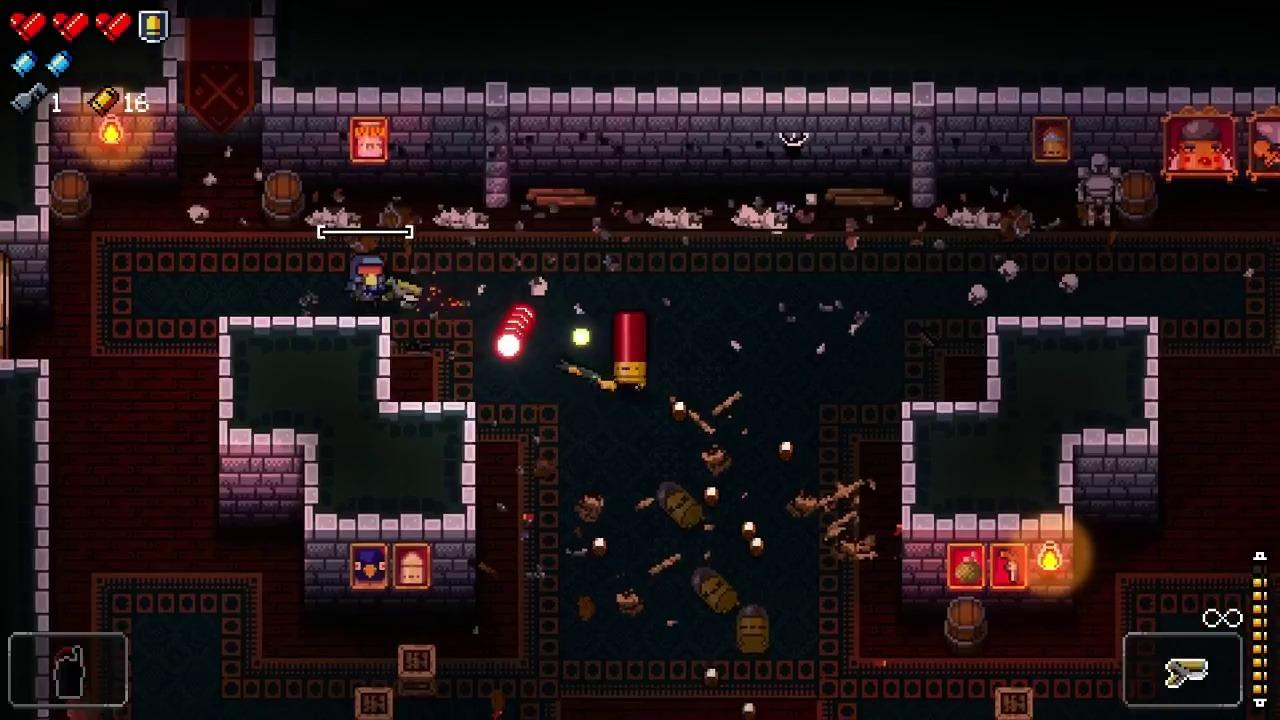blocked_door: (178, 16, 263, 147)
bullet: (493, 331, 524, 361)
player: (348, 254, 387, 306)
red_shotgun_kin: (613, 312, 646, 388)
